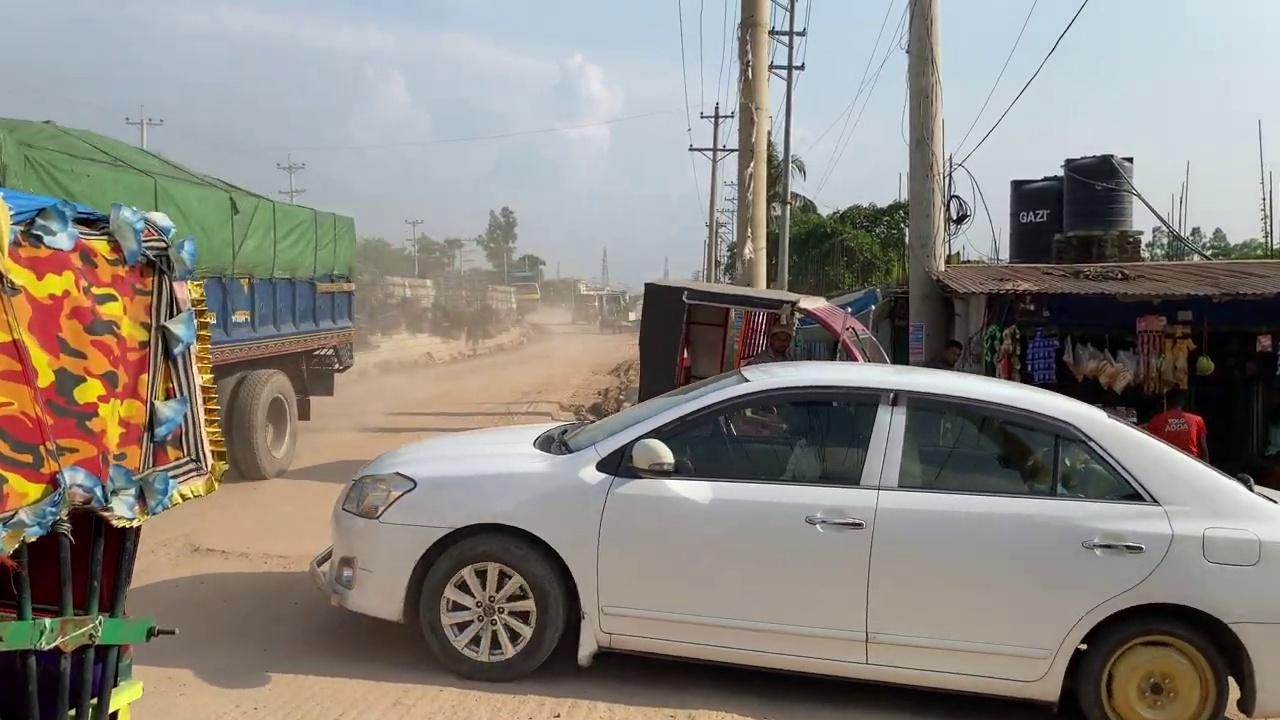Car: (308, 358, 1279, 719)
Obstacle: (176, 272, 356, 481)
Pole: (905, 0, 948, 364), (734, 0, 771, 289), (770, 0, 805, 291)
Traffic-sign: (475, 204, 518, 284)
Tree: (0, 115, 357, 720), (636, 278, 892, 408), (370, 274, 435, 335), (571, 279, 639, 334), (505, 253, 545, 317)
